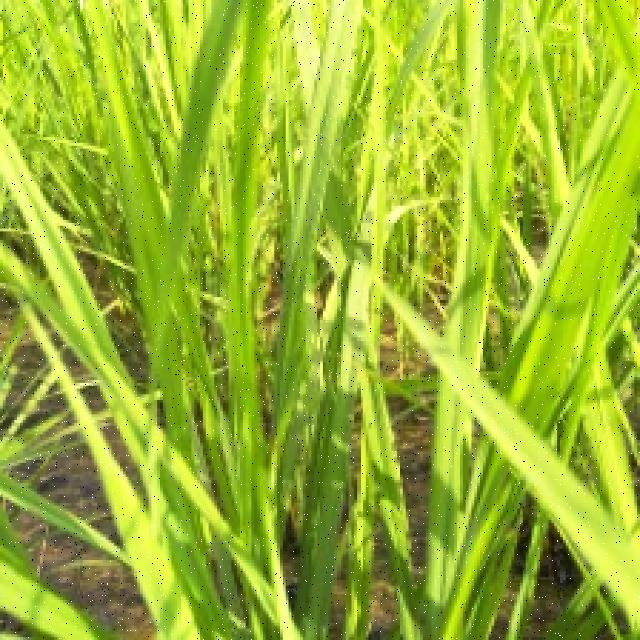health: (0, 2, 640, 200)
